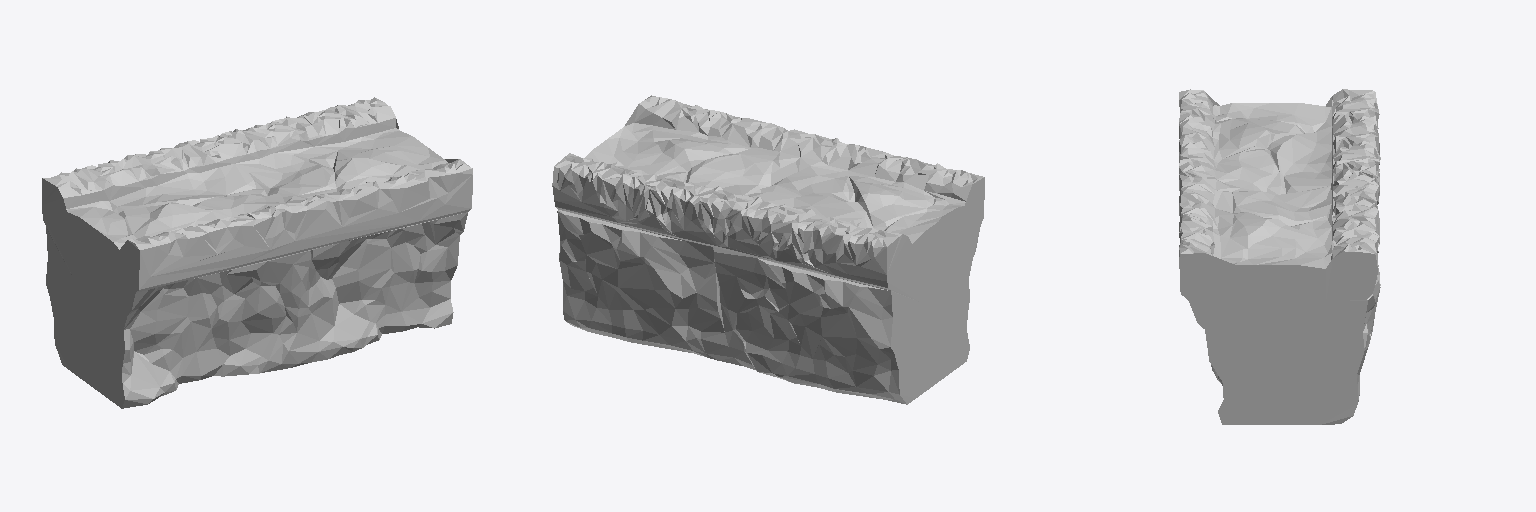
3 renders of one model, left to right at view 1: azimuth 30°, elevation 25°; view 2: azimuth 150°, elevation 25°; view 3: azimuth 270°, elevation 25°, orthographic.
Visible parts, largest first — view 1: base_low_5:Group42014; view 2: base_low_5:Group42014; view 3: base_low_5:Group42014.
Boxes of the visible parts, box(x1,y1,x2,y2) form: base_low_5:Group42014: box(42, 97, 472, 408); base_low_5:Group42014: box(552, 95, 984, 404); base_low_5:Group42014: box(1179, 89, 1380, 424).
Size of the model in its own units: 98.46 by 50 by 51.76.